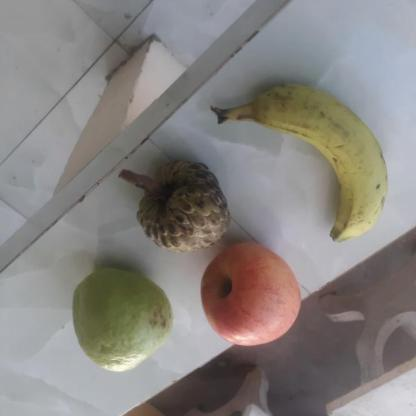annona: (124, 158, 228, 253)
apple: (197, 245, 303, 346)
banana: (213, 82, 384, 240)
guava: (70, 271, 169, 368)
